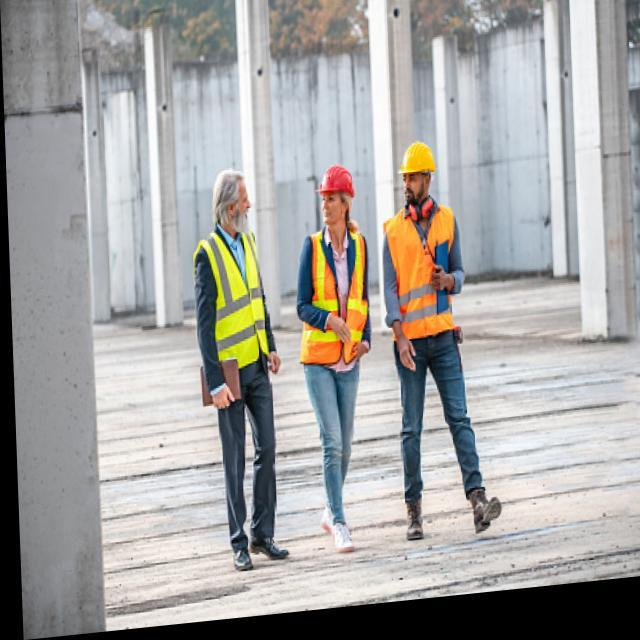hard_hat: (394, 136, 439, 213), (315, 162, 357, 231)
shoes: (399, 478, 505, 551)
vest: (188, 221, 275, 386), (377, 195, 465, 348), (292, 216, 373, 375)
